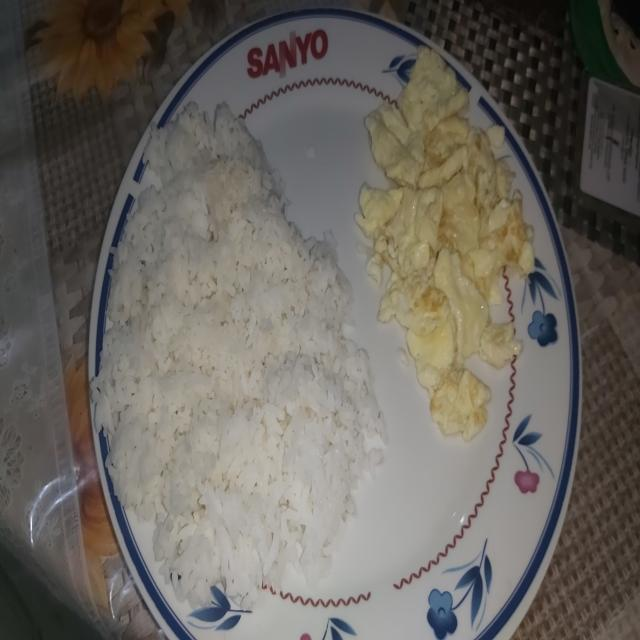Chicken -Chicken Inasal-: (102, 99, 360, 590)
